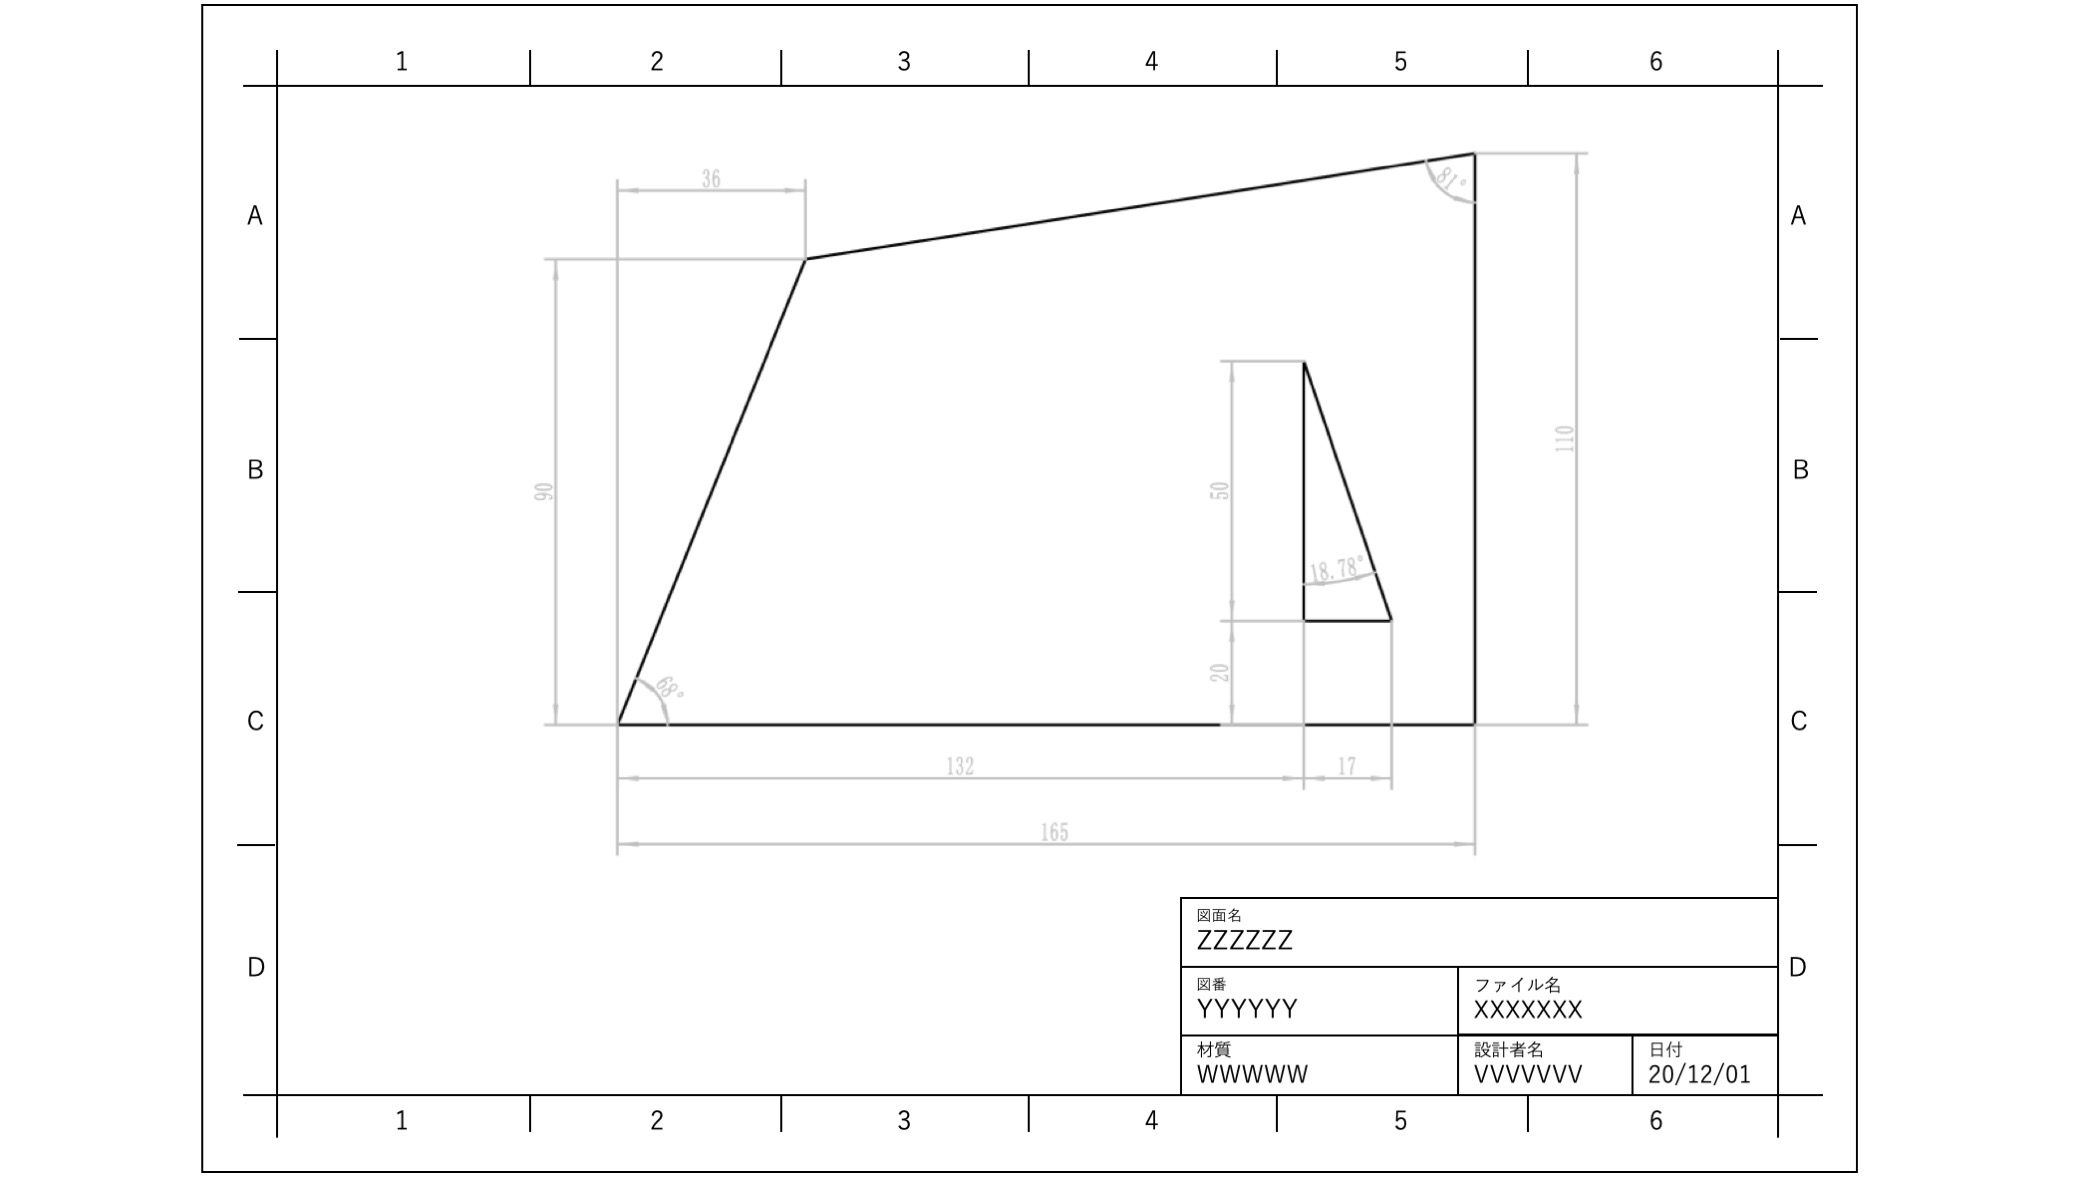triangle: (1287, 337, 1400, 634)
